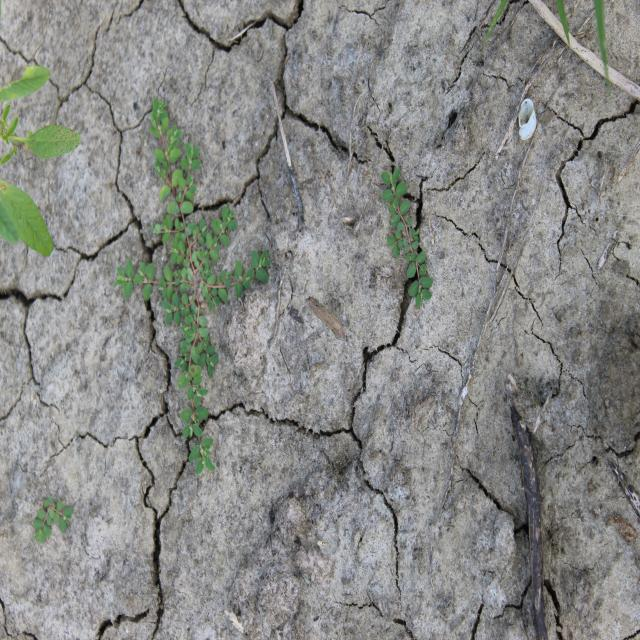SpottedSpurge: (112, 96, 272, 476), (379, 165, 435, 309), (32, 494, 73, 544)
Waterhemp: (1, 63, 83, 260)
